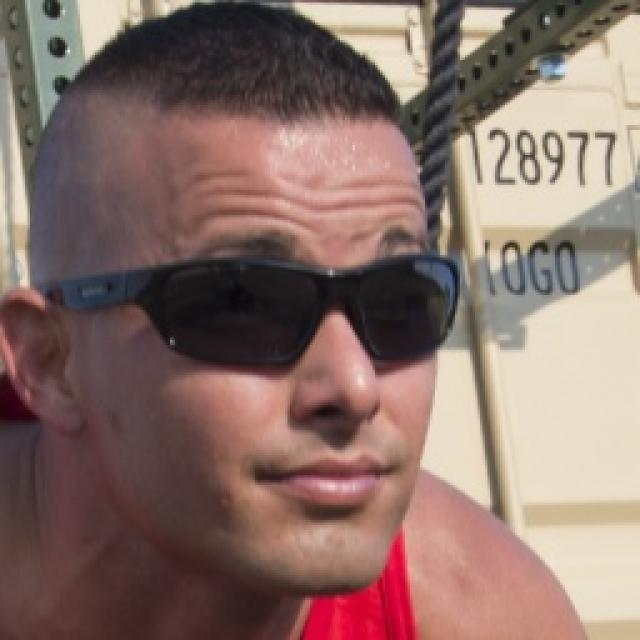glasses: (33, 249, 479, 386)
